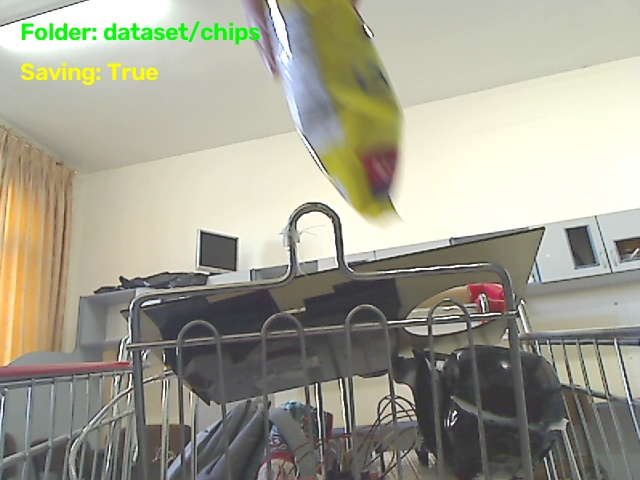chips: (268, 0, 401, 217)
